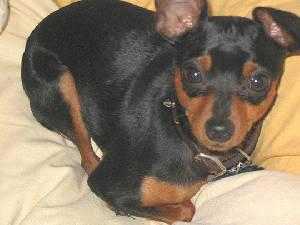dog-miniature_pinscher: (151, 0, 298, 152)
